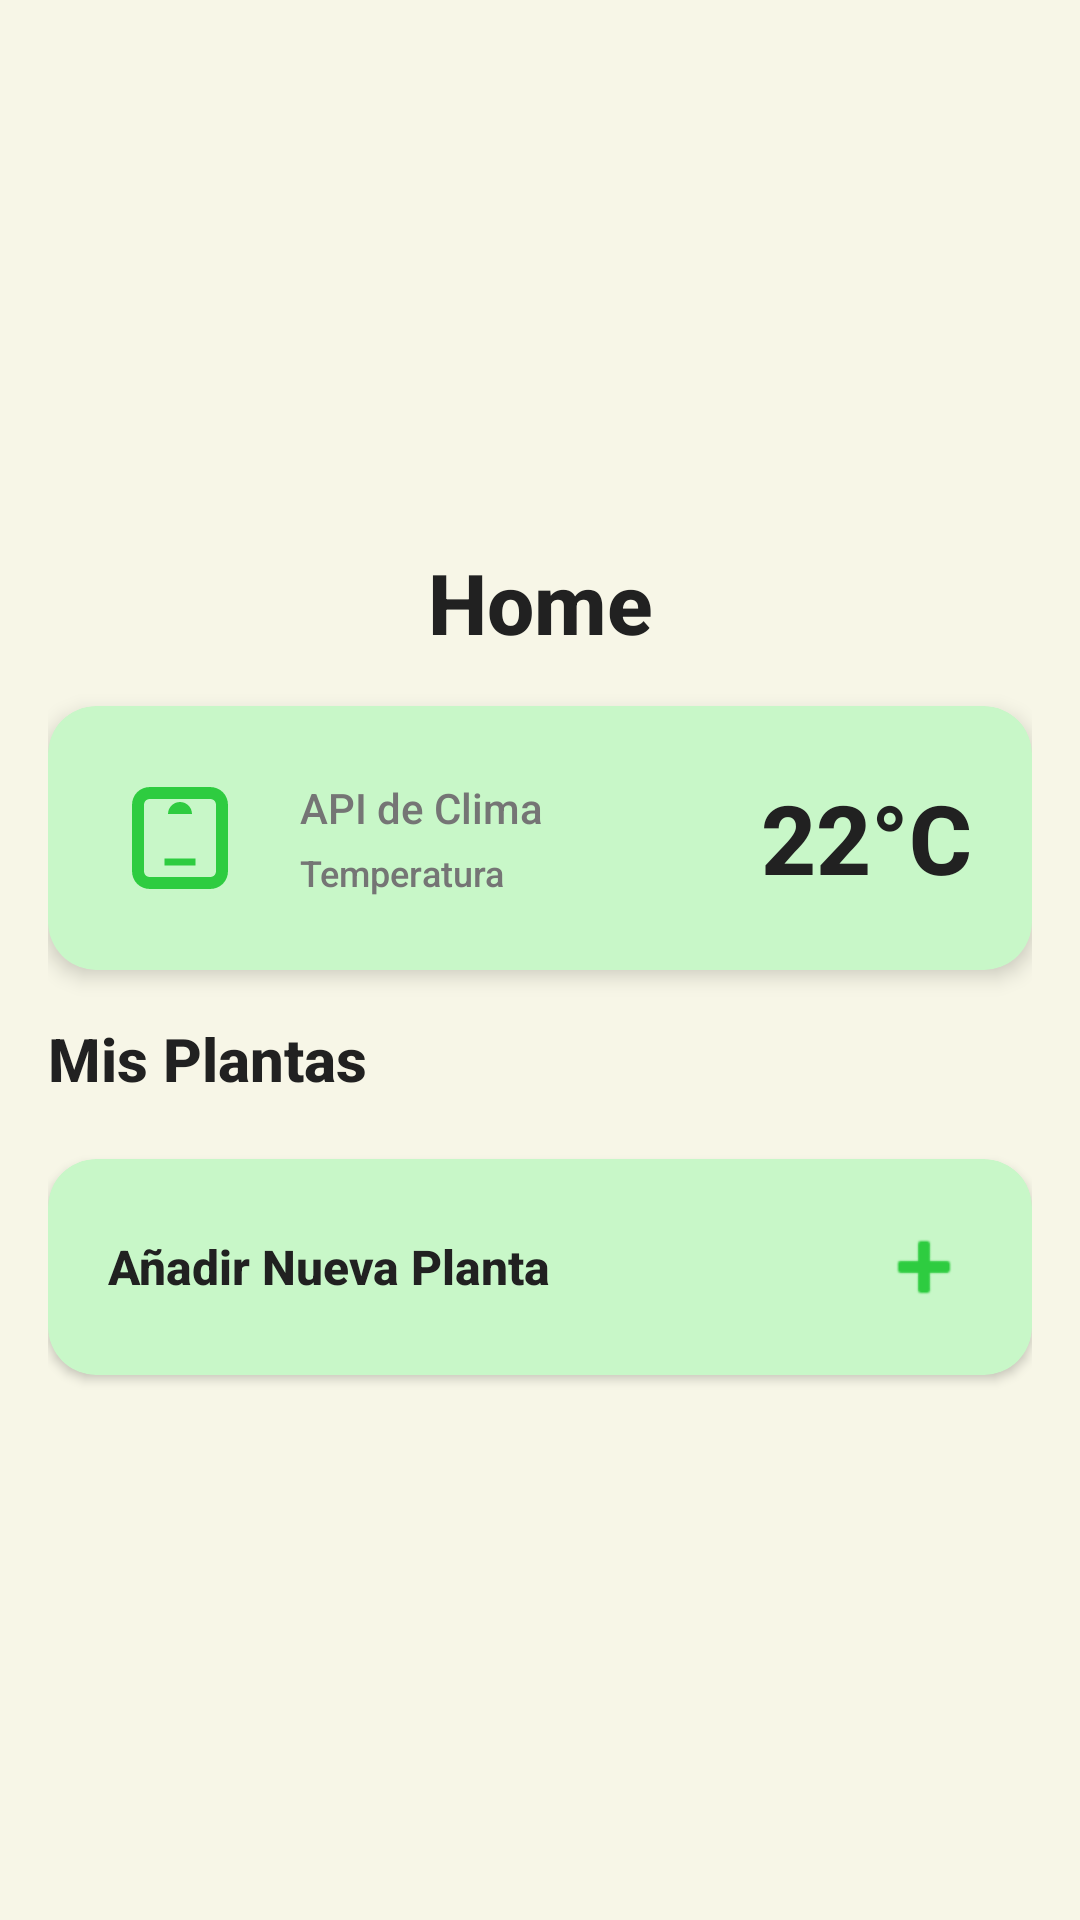

Locate icon controls on the screen. Image size 1080px x 1920px, boxes as (x1, y1, x2, y2).
Add plant: (897, 1240, 951, 1294)
